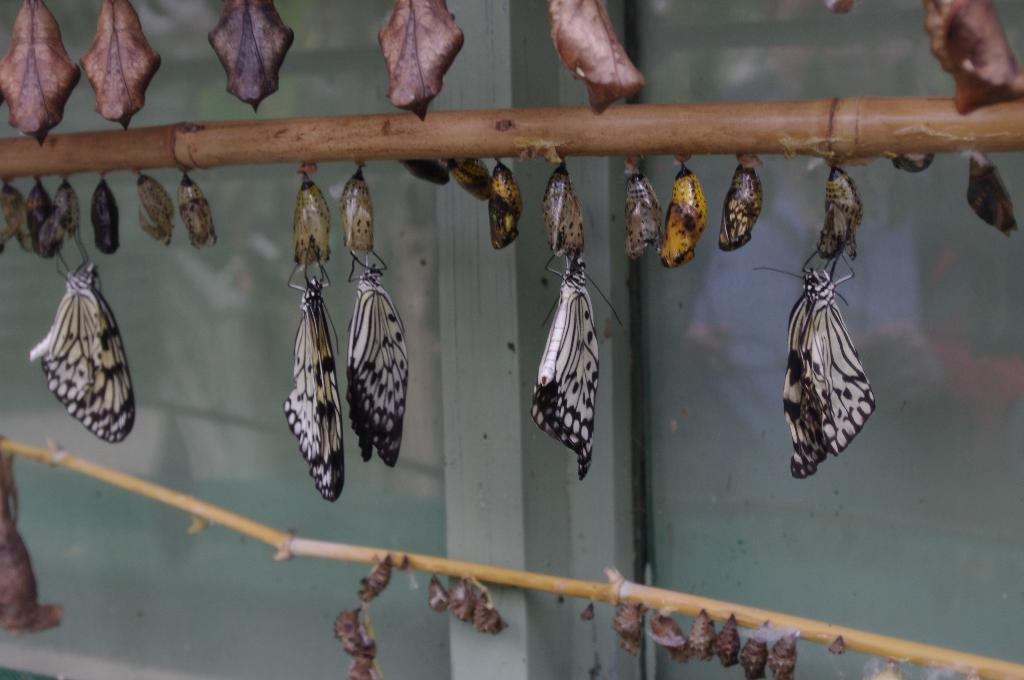Butterfly: (18, 246, 158, 433), (525, 236, 631, 481), (779, 258, 881, 472), (273, 232, 349, 506), (347, 258, 430, 469)
